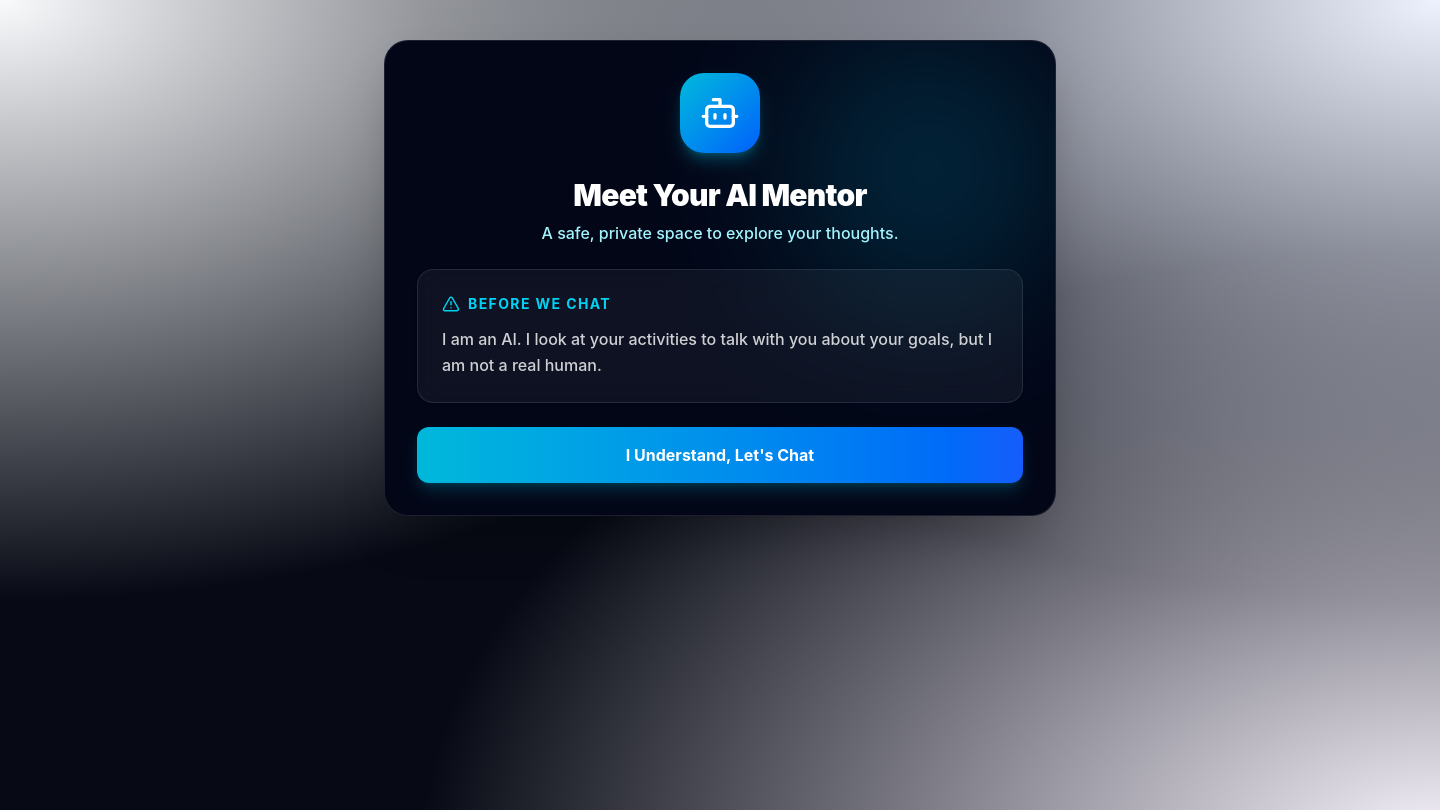
it: AiMentorChat Real Speech Dictation Integration › displays honest unsupported notice when SpeechRecognition API is absent (no fake timeout transcript)
Click the button "I Understand, Let's Chat" at [720, 455], box [417,427,1023,483]
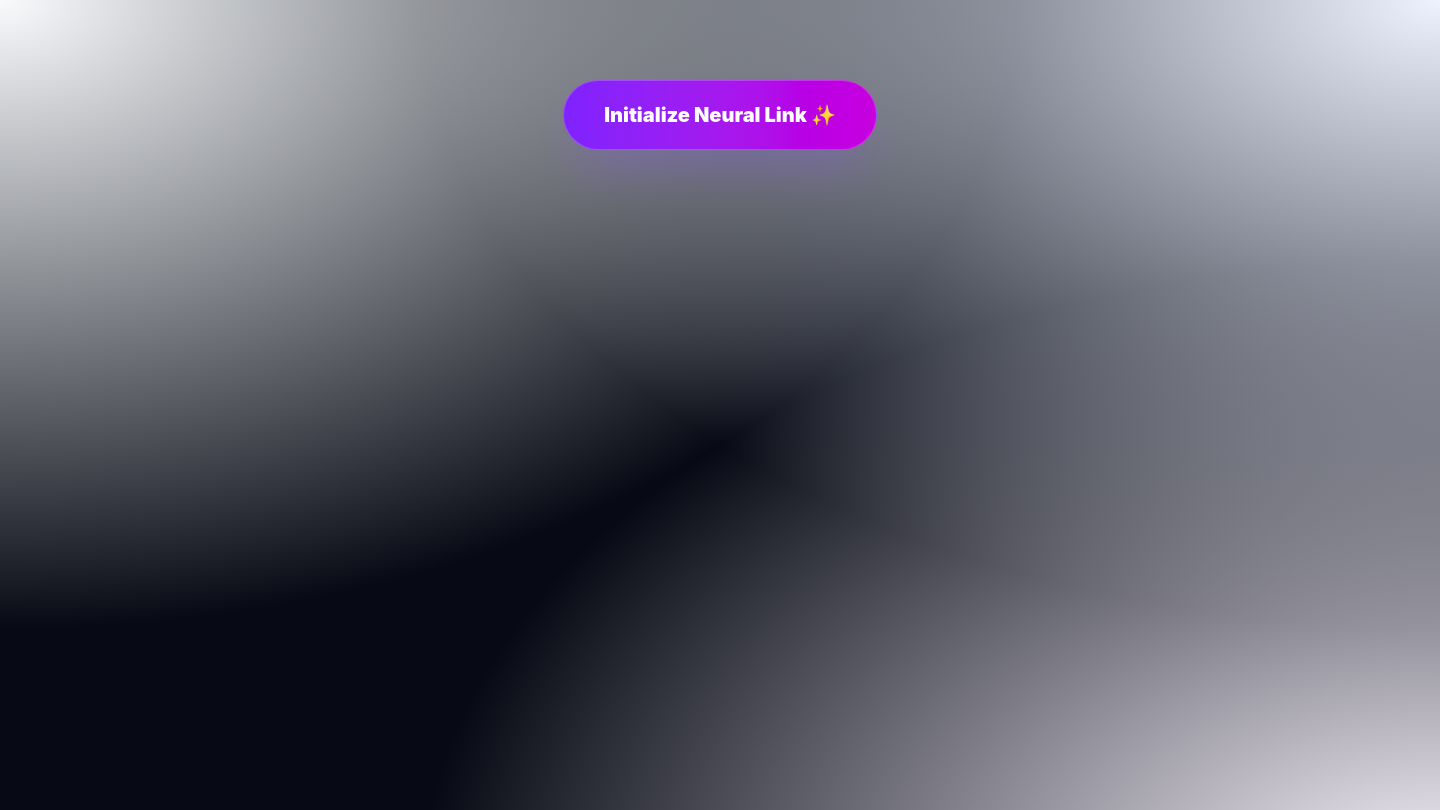
Click the button "Initialize Neural Link ✨" at [720, 115], box [563,80,877,150]
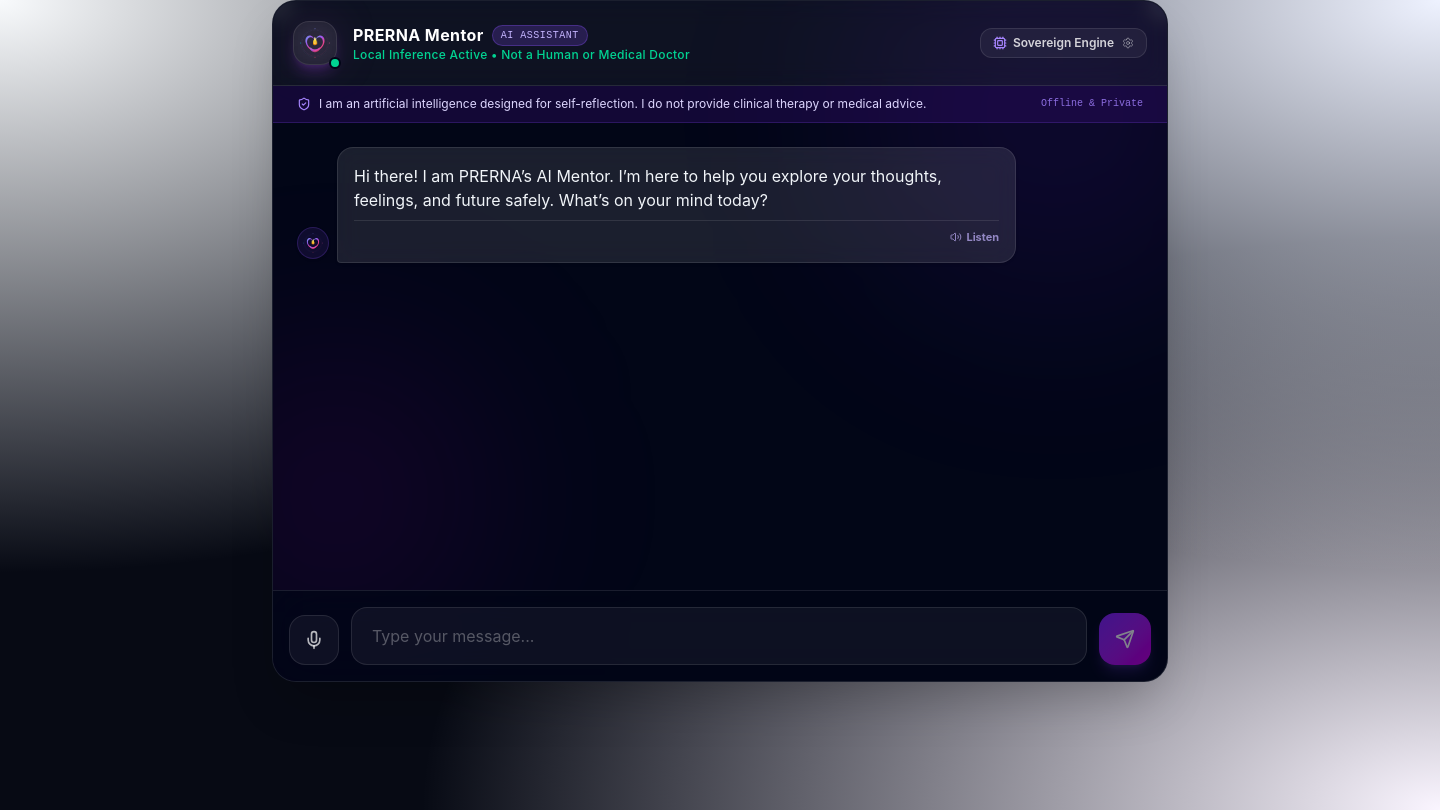
Click the button named "Start voice input" at [314, 640], box [289,615,339,665]
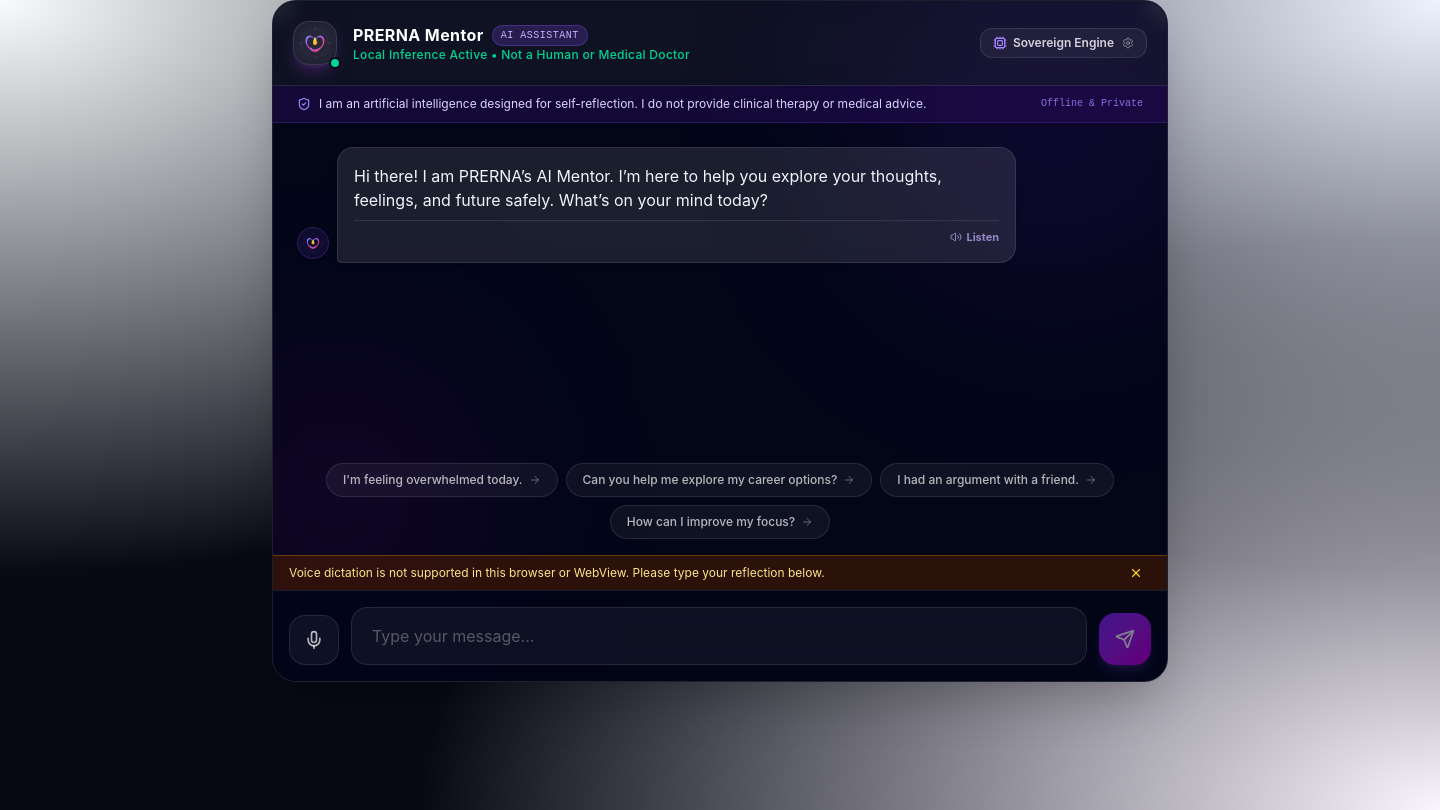
Expected: the field with placeholder "Type your message..." is empty, [351,607,1087,665]
Expected: the message shows "Voice dictation is not supported", [289,565,825,580]
